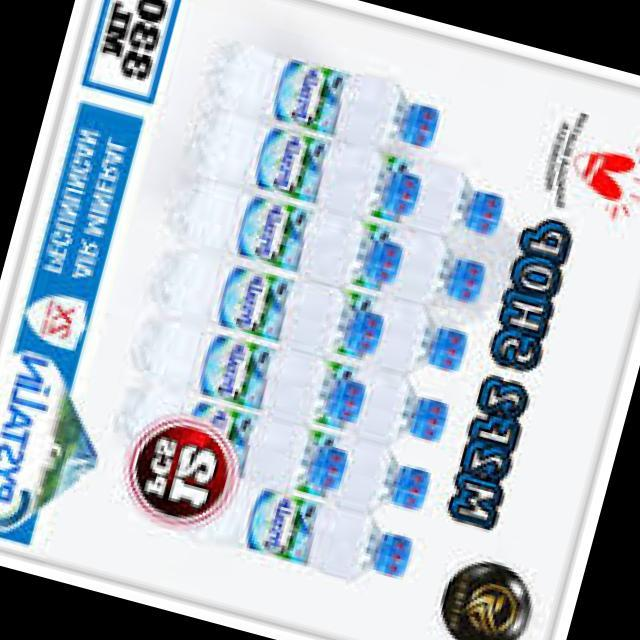good: (93, 368, 355, 530), (197, 21, 450, 164), (165, 102, 427, 240), (168, 466, 412, 606), (153, 162, 412, 292), (115, 310, 372, 439), (138, 232, 391, 360), (288, 276, 480, 388), (245, 408, 430, 511), (345, 138, 519, 246), (274, 342, 458, 444), (349, 208, 499, 320)
